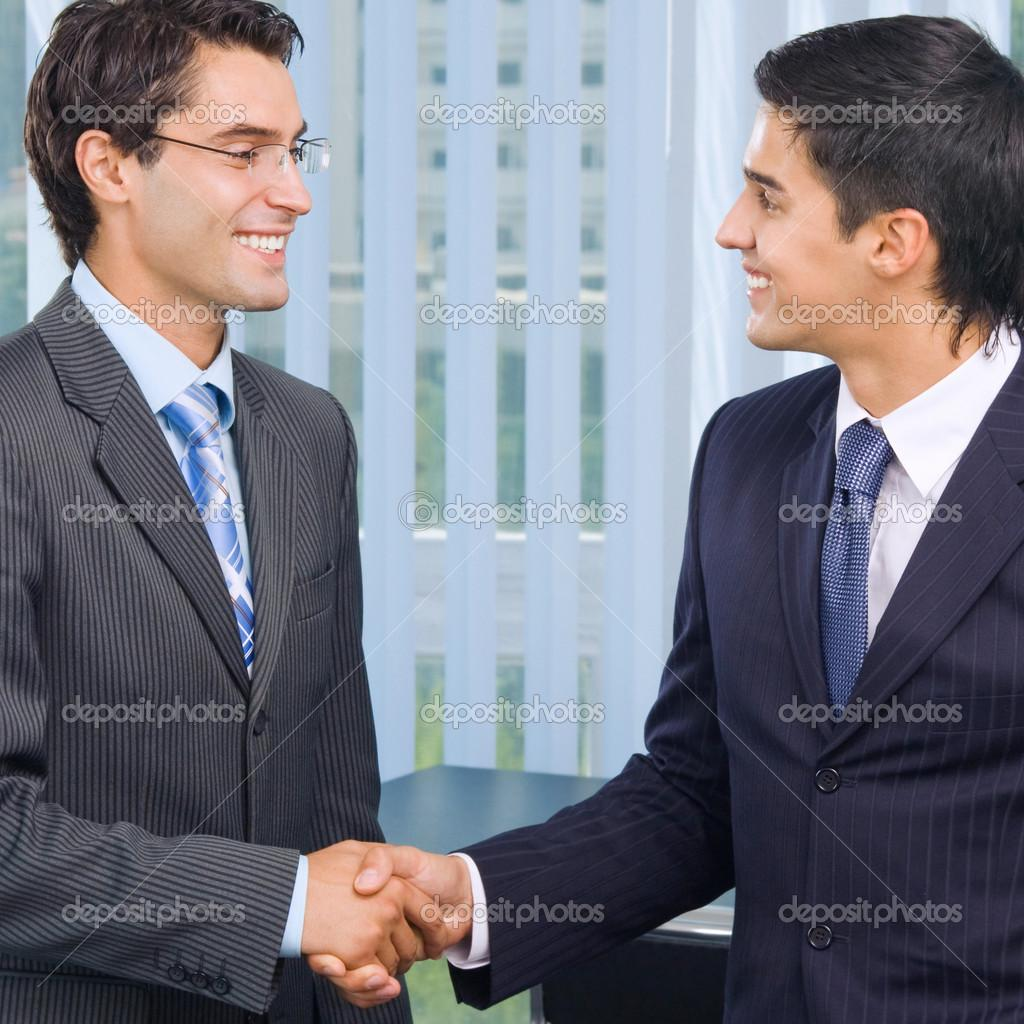face: (140, 32, 312, 310), (714, 94, 856, 348)
